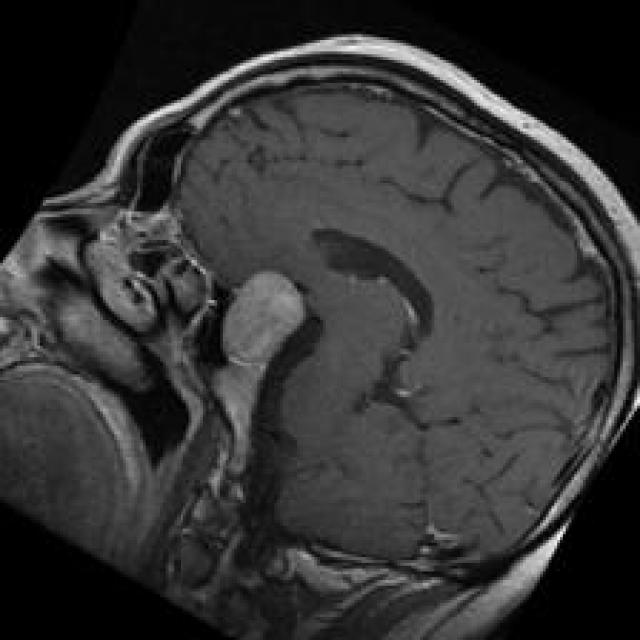pituitary_tumor: (196, 249, 330, 447)
